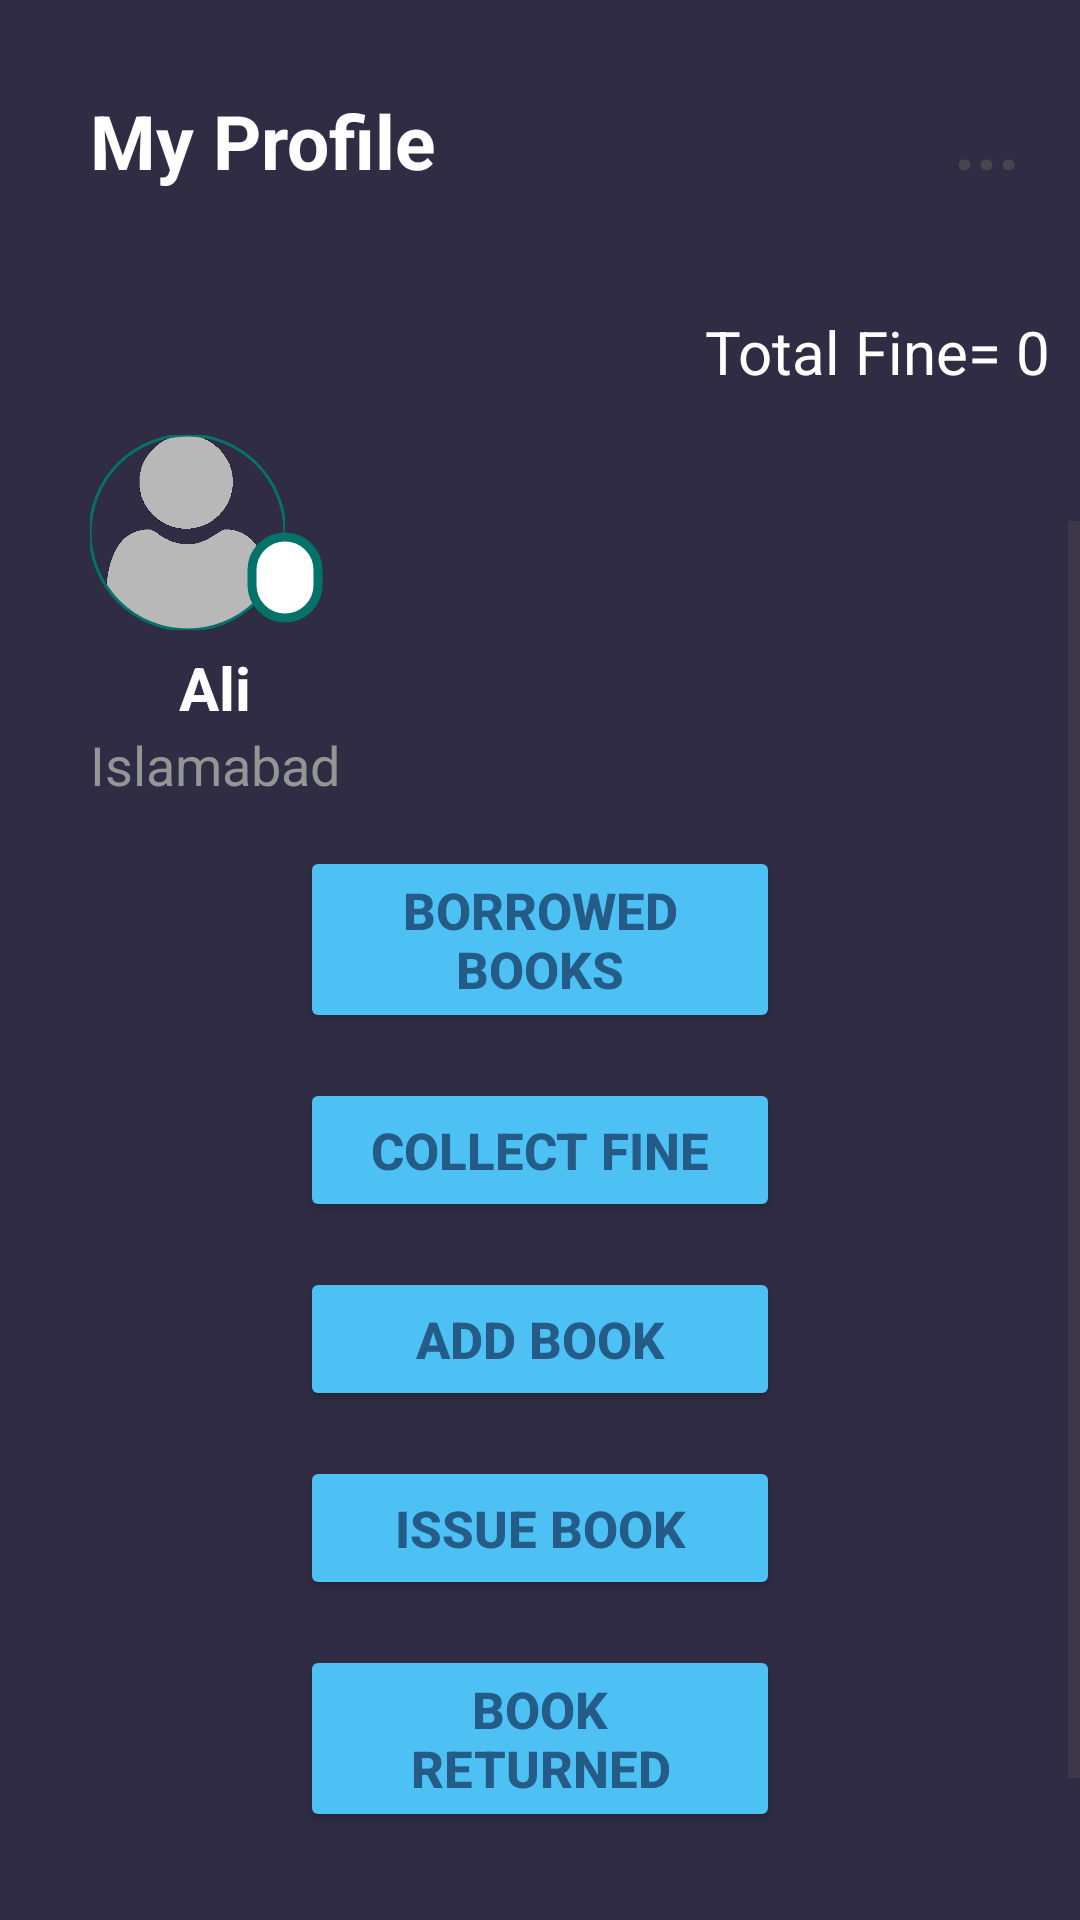

Named icons in this screenshot (1080px x 1920px) and their centers, [x,y]:
user: [187,532]
